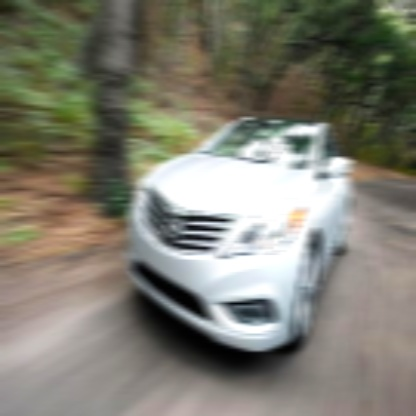Vehicle: (127, 114, 351, 356)
